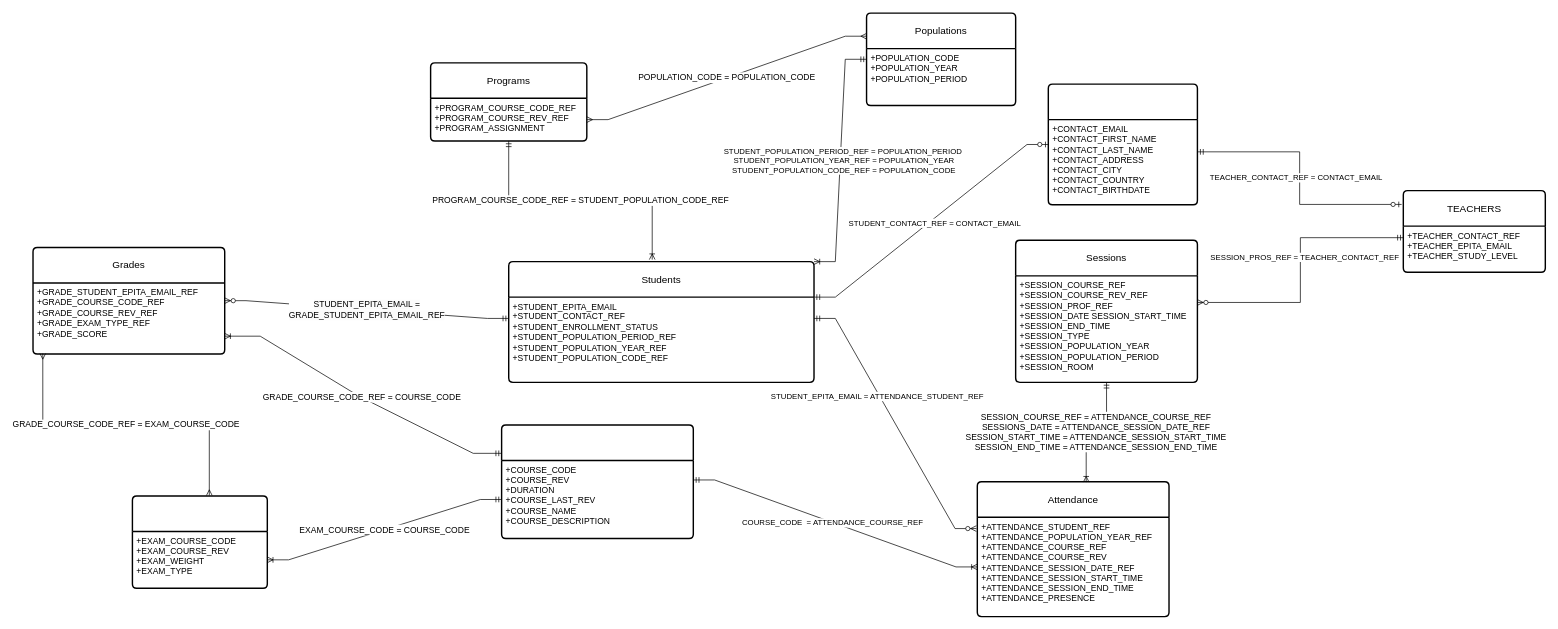
This 1558x629 diagram has some shape labels left out. The box of each missing label's shape, as (x1, y1, x2, y2) in pixels:
Contacts: (1047, 83, 1198, 205)
Courses: (501, 424, 694, 539)
Exams: (131, 495, 268, 589)
